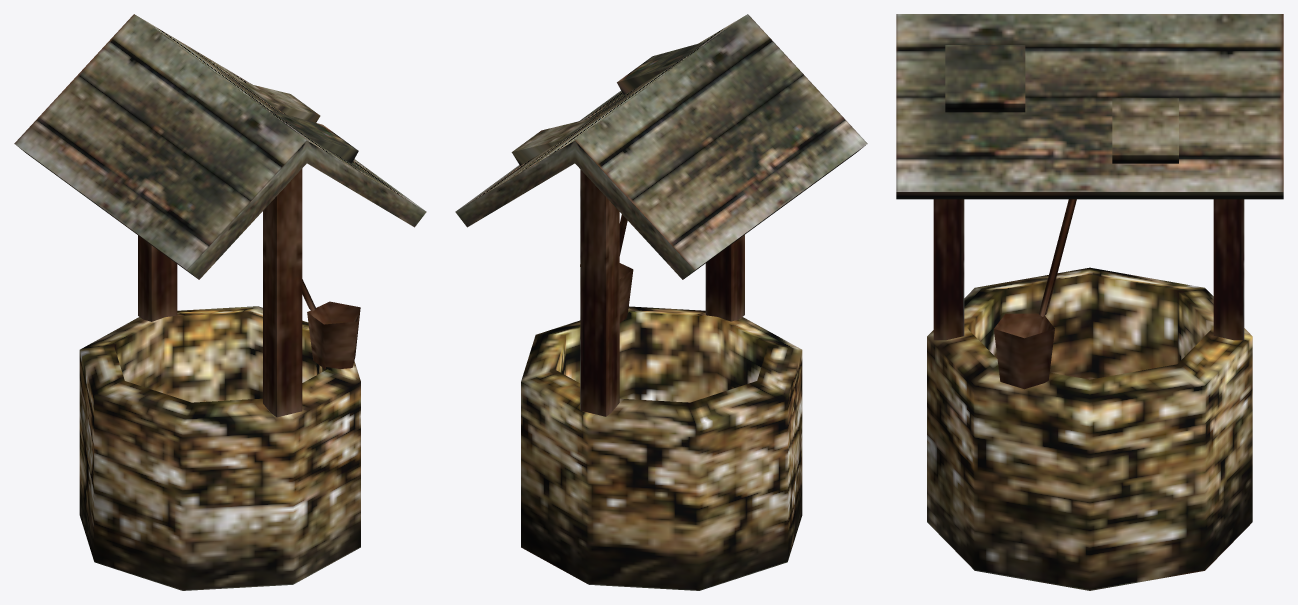
The model's file is Well02.glb.
3 renders of one model, left to right at view 1: azimuth 30°, elevation 25°; view 2: azimuth 150°, elevation 25°; view 3: azimuth 270°, elevation 25°, orthographic. The views are drawn at different scales.
Visible parts, largest first — view 1: Well02; view 2: Well02; view 3: Well02.
Part boxes in pixels (x1=…): Well02: x1=14, y1=14, x2=426, y2=590; Well02: x1=455, y1=14, x2=867, y2=590; Well02: x1=896, y1=14, x2=1283, y2=590.
Bounding box in the file's own units: 1.57 × 2.71 × 1.87.
1 material, 1 textured.
